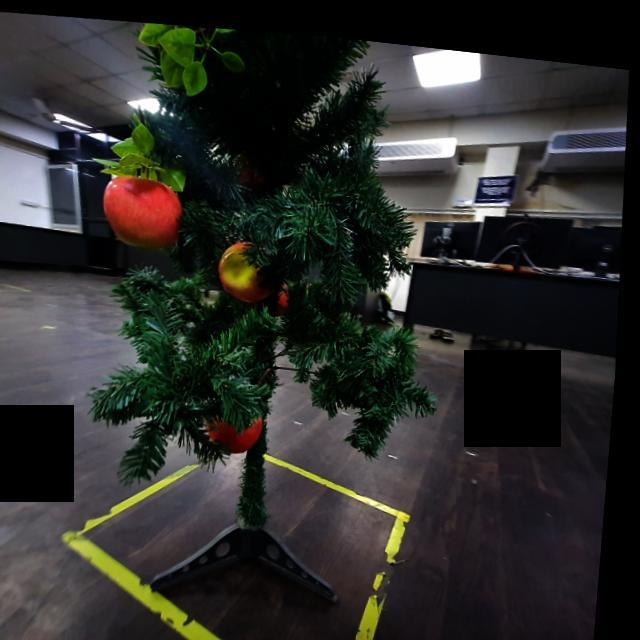Tree: (82, 12, 442, 602)
